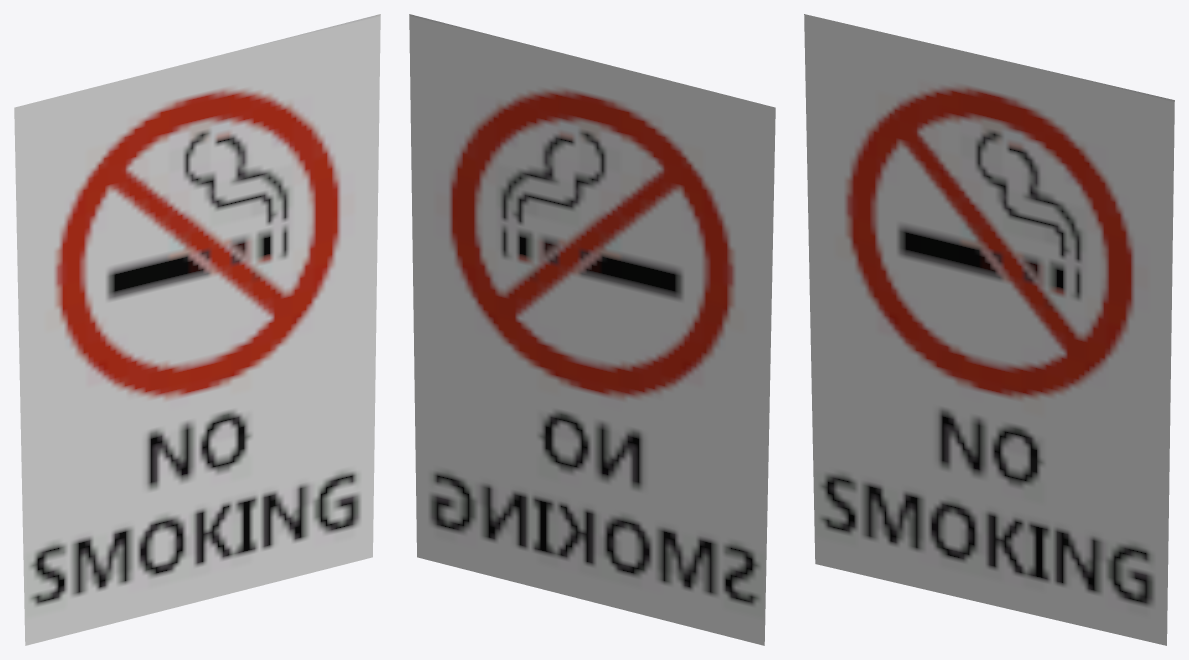
Rendered from SM_Sign_No_Smoking_01.glb.
3 views of the same model, side by side, from view 1: azimuth 30°, elevation 25°; view 2: azimuth 150°, elevation 25°; view 3: azimuth 330°, elevation 25° (orthographic).
Parts seen in each view (by area): view 1: SM_Sign_No_Smoking_01; view 2: SM_Sign_No_Smoking_01; view 3: SM_Sign_No_Smoking_01.
Boxes of the visible parts, x1,y1,x2,y2 form: SM_Sign_No_Smoking_01: (14, 14, 380, 645); SM_Sign_No_Smoking_01: (409, 14, 775, 645); SM_Sign_No_Smoking_01: (804, 14, 1174, 645).
Bounding box in the file's own units: 0.1585 × 0.2254 × 3.73e-08.
Materials: 1 (1 with a texture image).
